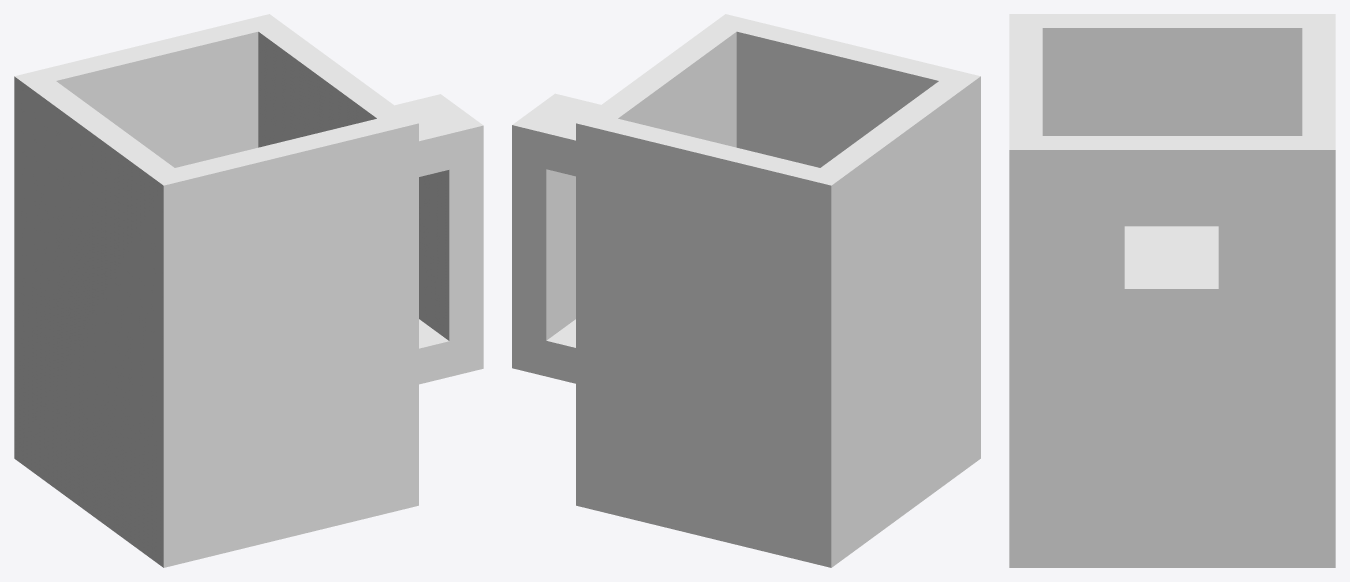
The model's file is CoffeeCup_01.fbx.
The picture shows the model from 3 angles, left to right: view 1: azimuth 30°, elevation 25°; view 2: azimuth 150°, elevation 25°; view 3: azimuth 270°, elevation 25°; orthographic projection. The views are drawn at different scales.
Parts seen in each view (by area): view 1: CoffeeCup_01; view 2: CoffeeCup_01; view 3: CoffeeCup_01.
Part boxes in pixels (x1,y1,x2,y2): CoffeeCup_01: [14, 14, 483, 567]; CoffeeCup_01: [512, 14, 980, 567]; CoffeeCup_01: [1009, 14, 1335, 567].
Size of the model in its own units: 76.23 by 74.69 by 52.91.
